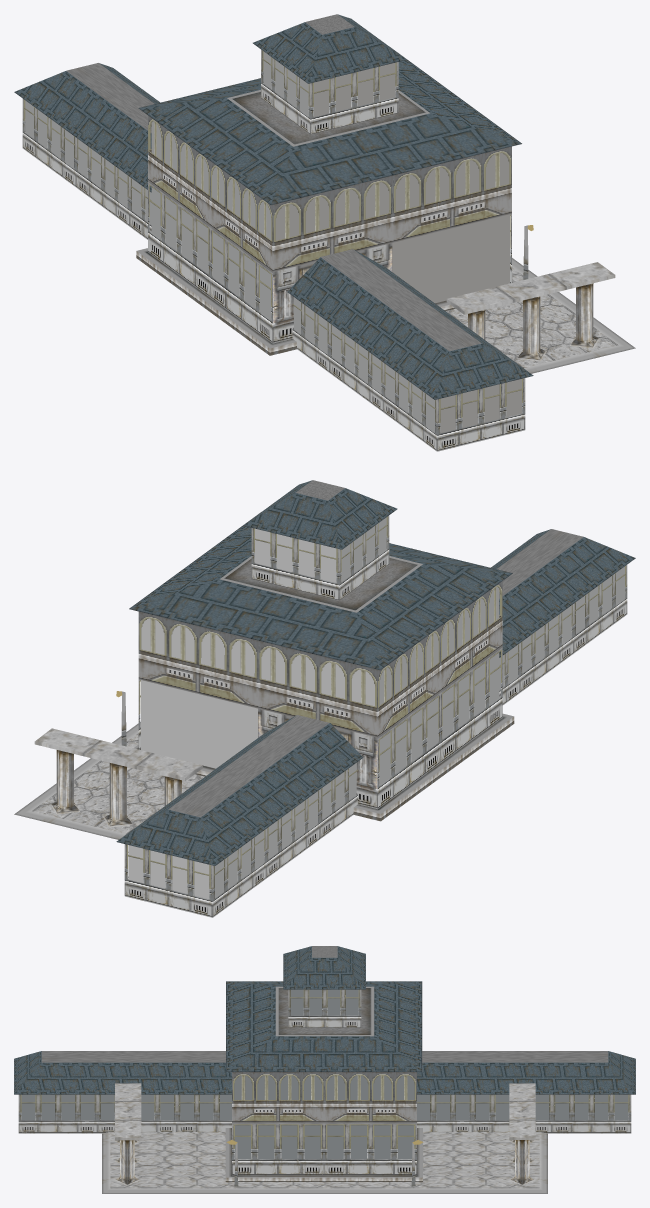
Rendered from s_gov1.glb.
3 views of the same model, one above another, from view 1: azimuth 30°, elevation 25°; view 2: azimuth 150°, elevation 25°; view 3: azimuth 270°, elevation 25° (orthographic). The views are drawn at different scales.
Visible parts, largest first — view 1: S_Gov1, LitWin_S_Gov1; view 2: S_Gov1, LitWin_S_Gov1; view 3: S_Gov1, LitWin_S_Gov1.
Boxes of the visible parts, x1,y1,x2,y2 form: S_Gov1: (14, 14, 635, 451); LitWin_S_Gov1: (25, 51, 521, 432); S_Gov1: (14, 480, 635, 917); LitWin_S_Gov1: (128, 517, 624, 899); S_Gov1: (14, 946, 635, 1193); LitWin_S_Gov1: (21, 989, 628, 1158).
Bounding box in the file's own units: 23.1 × 19.66 × 59.6.
7 materials, 7 textured.
